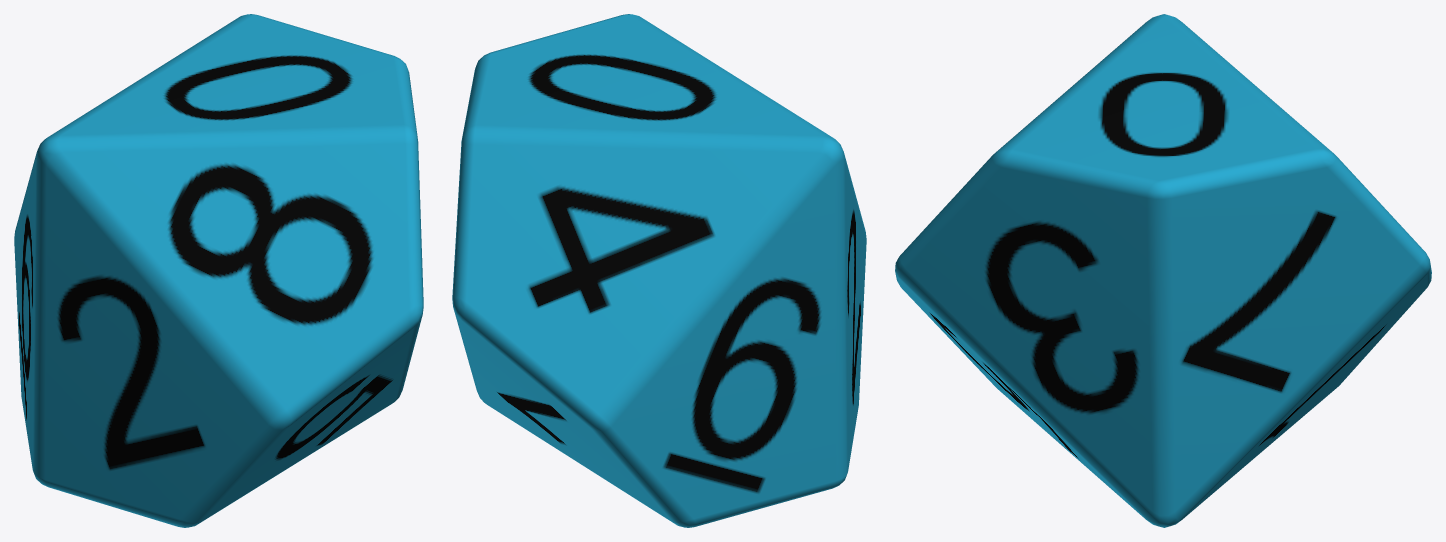
3 views of the same model, side by side, from view 1: azimuth 30°, elevation 25°; view 2: azimuth 150°, elevation 25°; view 3: azimuth 270°, elevation 25° (orthographic).
Visible parts, largest first — view 1: node_id6; view 2: node_id6; view 3: node_id6.
Boxes of the visible parts, x1,y1,x2,y2 form: node_id6: [14, 14, 423, 527]; node_id6: [452, 14, 866, 527]; node_id6: [895, 14, 1431, 527].
Size of the model in its own units: 0.512 by 0.4672 by 0.6437.
1 material, 1 textured.
